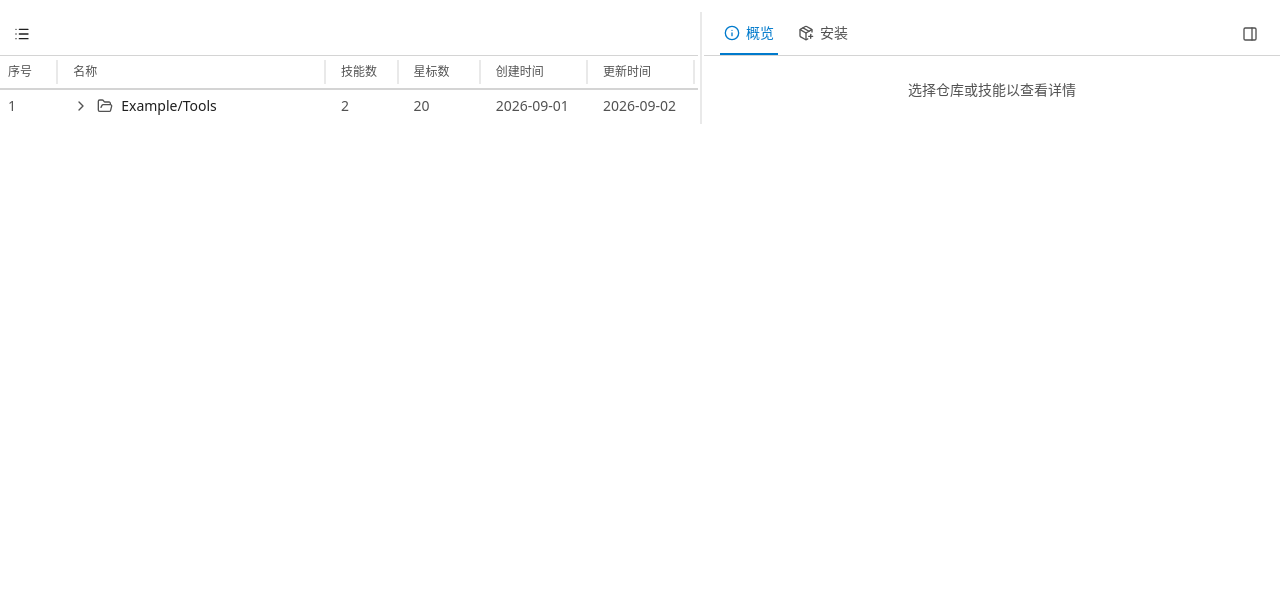
it: tree browser workspace › shows folder metadata above a separate skill list without scrolling on selection
Click the button "Example/Tools". click: (169, 106)
box: [121, 96, 217, 116]
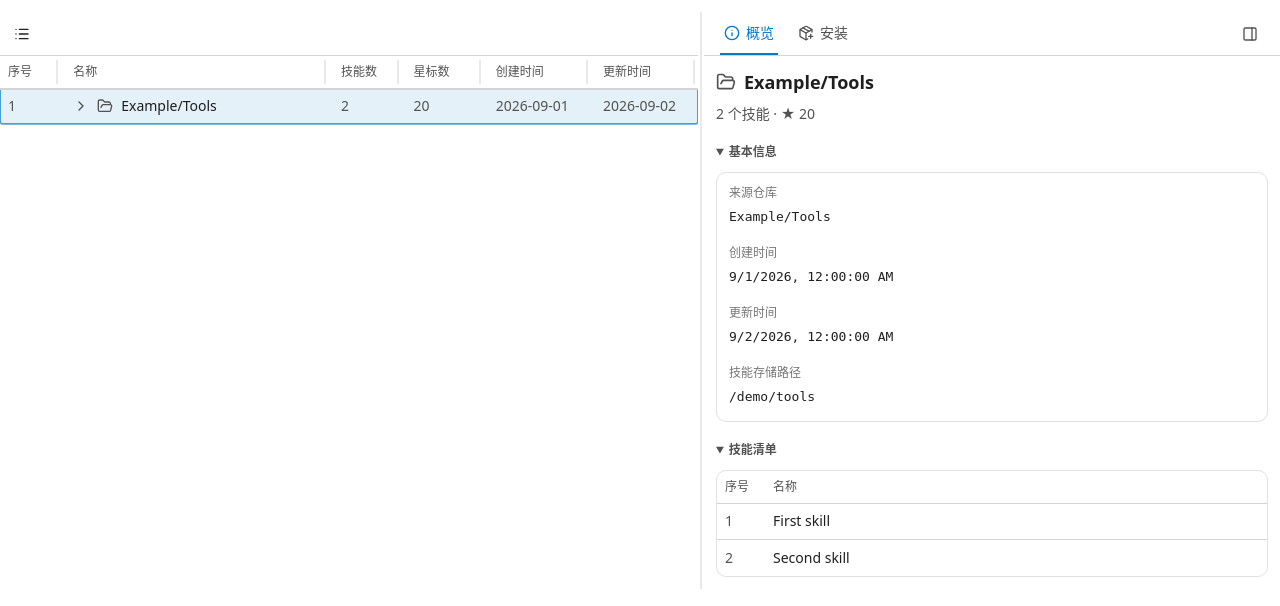
Expected: the button "/demo/tools" is shown, [729, 385, 815, 409]
Expected: the 2nd cell "1" is shown, [717, 503, 761, 540]
